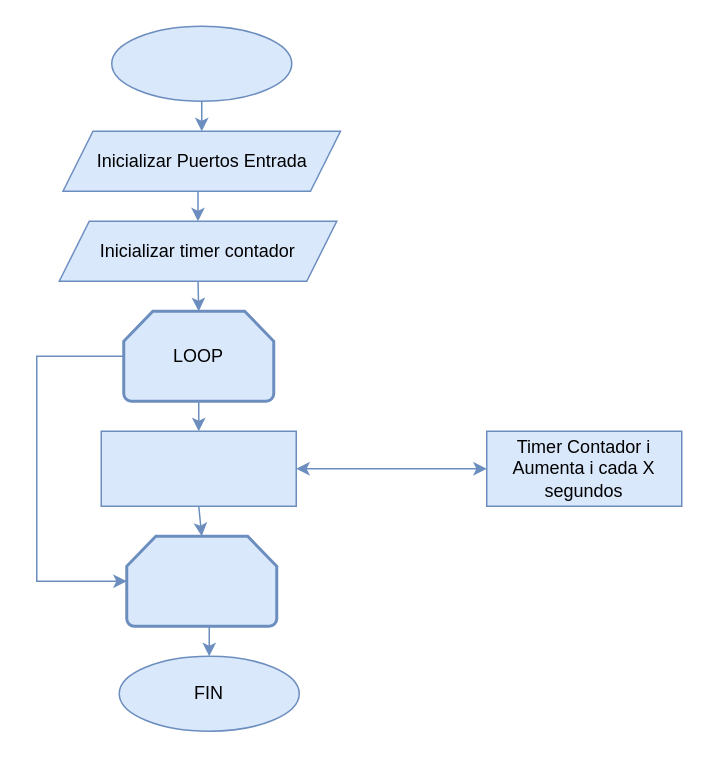
Some shapes in this 708 by 758 pixel diagram are drawn without their labels. Each missing label, with the centre of its shape:
INICIO: pixel 201 63
PORTD = numeros[i];: pixel 198 468
